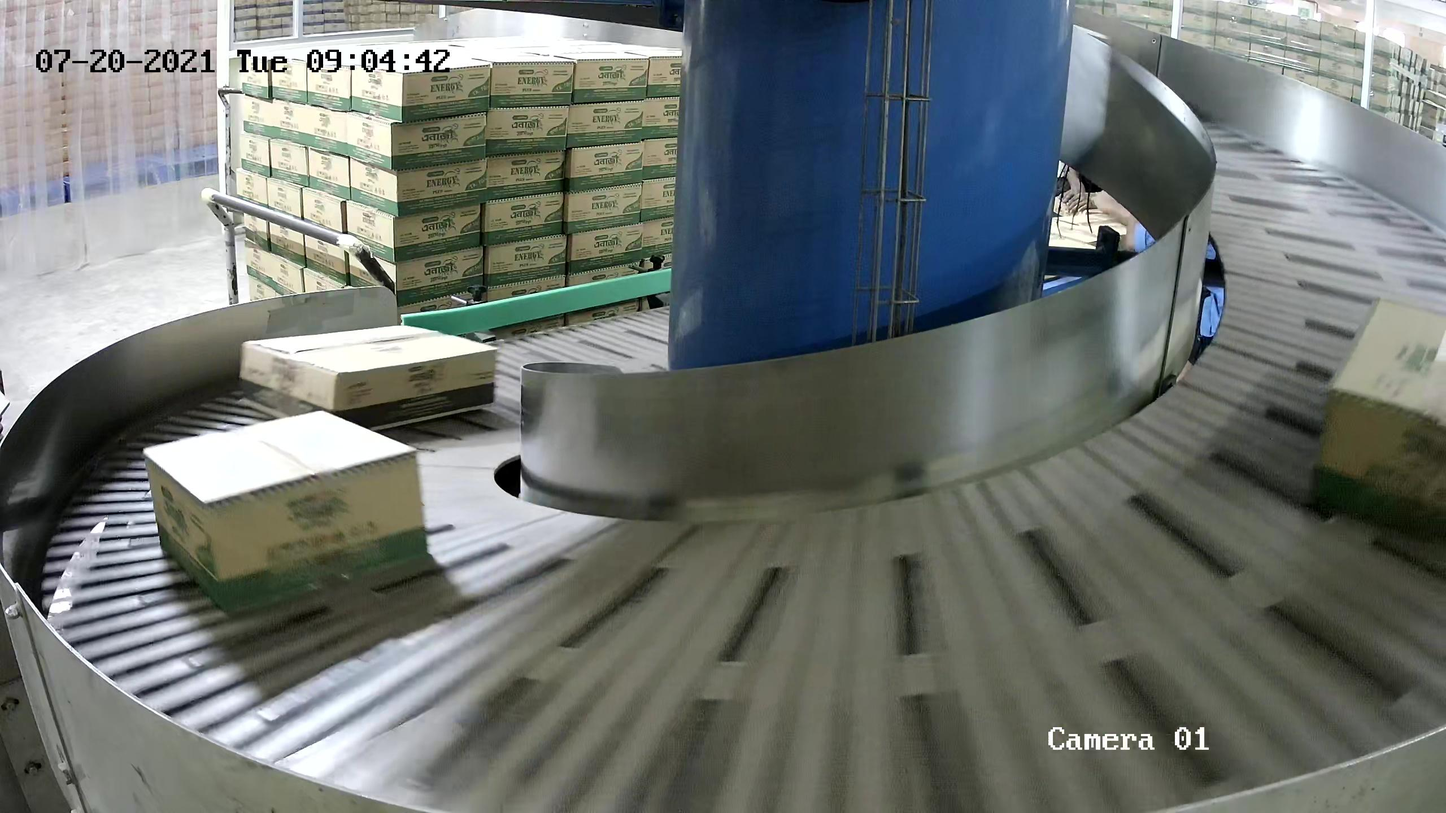Box: (139, 408, 431, 615), (1308, 294, 1446, 535), (237, 323, 498, 430)
